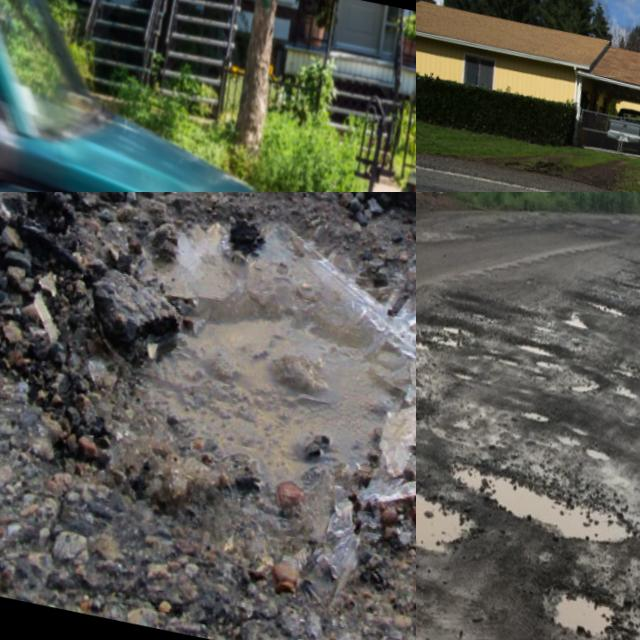Potholes: (0, 192, 416, 629), (433, 437, 635, 567), (483, 297, 623, 421), (494, 531, 640, 640), (416, 252, 510, 386), (416, 442, 477, 588), (577, 248, 640, 358), (617, 355, 640, 515)
